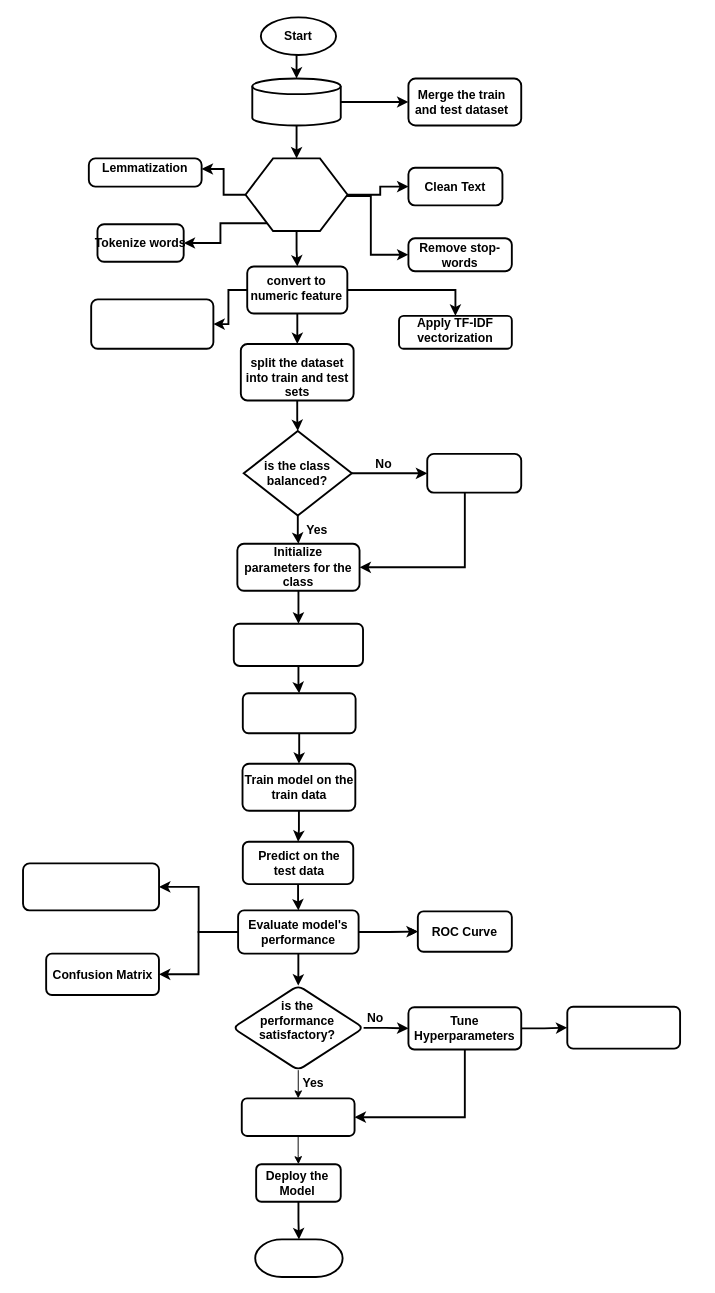
This 715x1293 diagram has some shape labels left out. Here are the shapes that lost their labels. From the top down, the centre of each, then its label:
At (x=296, y=101): "Load dataset".
At (x=296, y=194): "Pre-process the data".
At (x=152, y=323): "use if statement to convert the rating (label) to binary".
At (x=474, y=473): "Apply sampling".
At (x=297, y=644): "Calculate the priors and likelihoods".
At (x=298, y=713): "Define the predict function".
At (x=91, y=886): "Accuracy, precision, F1_score and recall".
At (x=623, y=1027): "Adjust laplace smoothing".
At (x=297, y=1116): "Save Model".
At (x=298, y=1257): "End".
